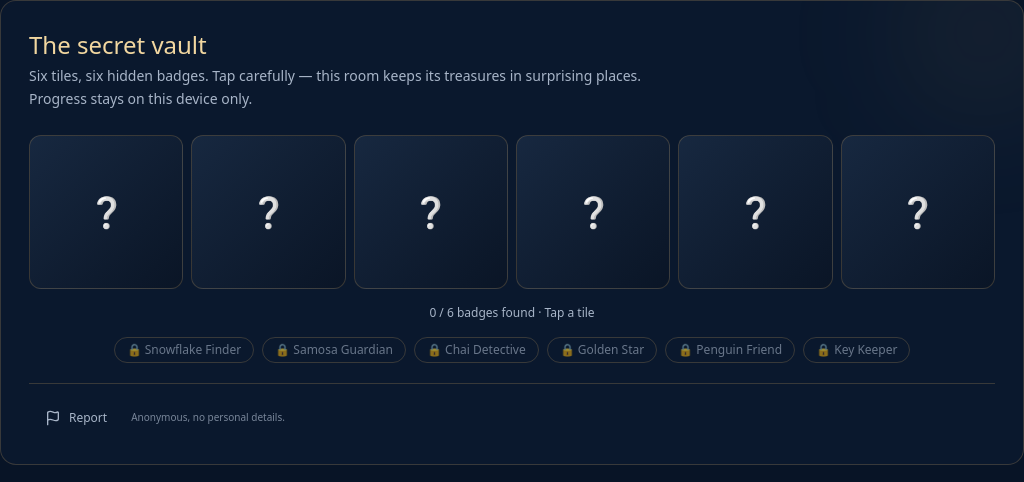
Test: Universe interactions › secret vault badges are collected locally, without accounts
Expected: the text "0 / 6 badges found · Tap a tile" is shown, x1=429 y1=304 x2=595 y2=321
Click the button named "Inspect tile 1": (106, 212) x1=29 y1=134 x2=183 y2=289
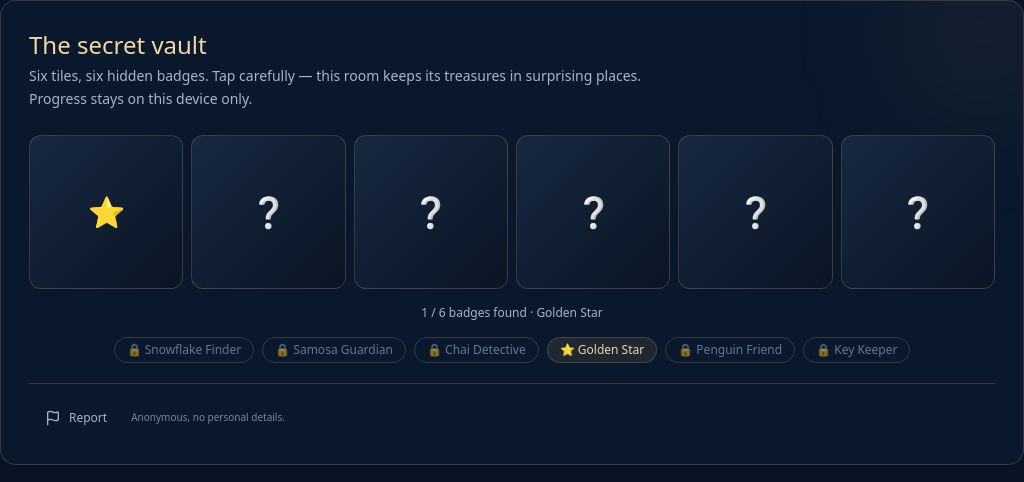
Expected: the text "1 / 6 badges found · Golden Star" is shown, x1=421 y1=304 x2=603 y2=321
